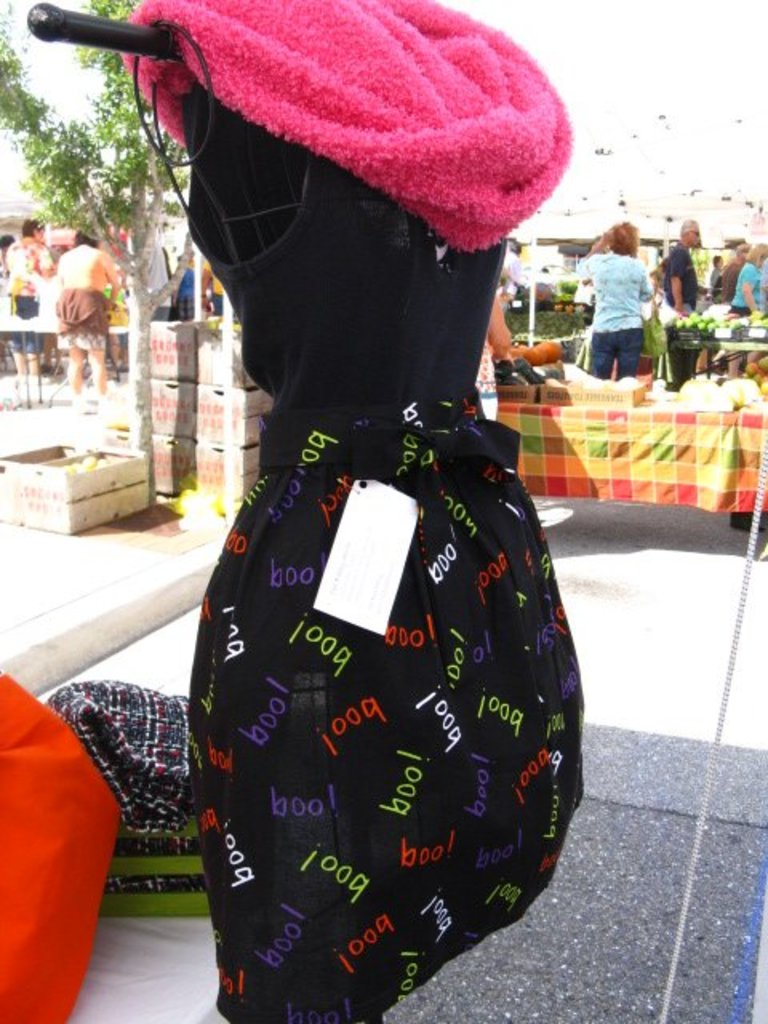Tree: (0, 0, 192, 505)
